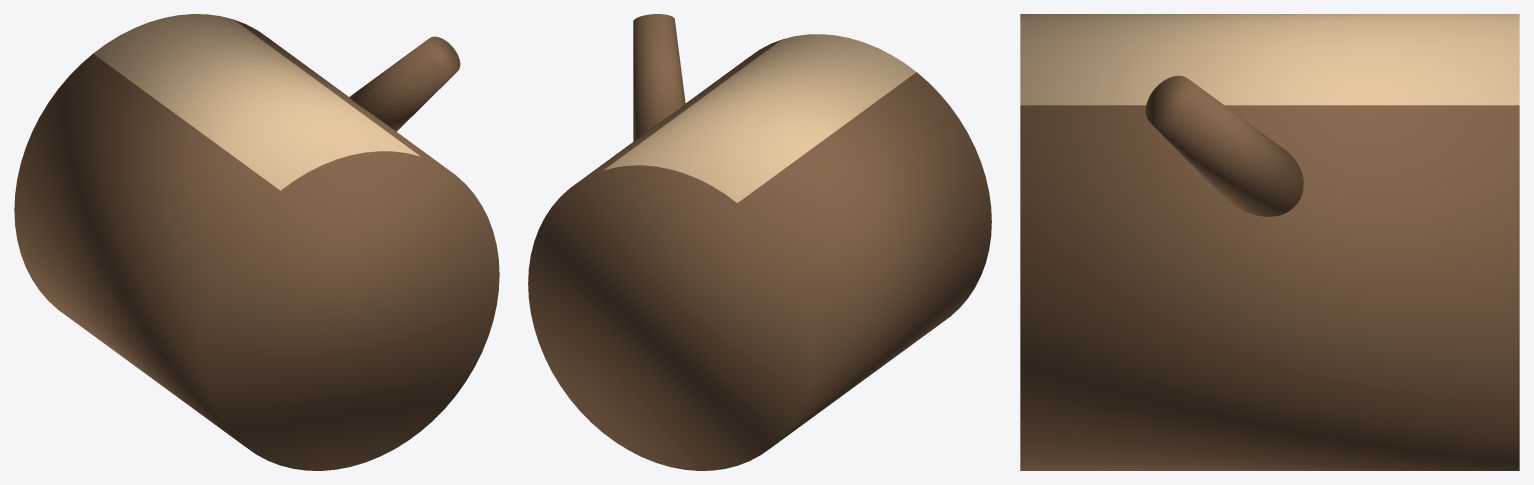
Rendered from wood.glb.
The picture shows the model from 3 angles, left to right: view 1: azimuth 30°, elevation 25°; view 2: azimuth 150°, elevation 25°; view 3: azimuth 270°, elevation 25°; orthographic projection. The views are drawn at different scales.
Visible parts, largest first — view 1: Cylinder, Cone; view 2: Cylinder, Cone; view 3: Cylinder, Cone.
Boxes of the visible parts, x1=… form: Cylinder: x1=14, y1=14, x2=499, y2=470; Cone: x1=349, y1=36, x2=460, y2=131; Cylinder: x1=528, y1=34, x2=991, y2=470; Cone: x1=633, y1=14, x2=685, y2=141; Cylinder: x1=1020, y1=14, x2=1519, y2=470; Cone: x1=1145, y1=75, x2=1303, y2=216.
Bounding box in the file's own units: 1.15 × 1.21 × 1.18.
